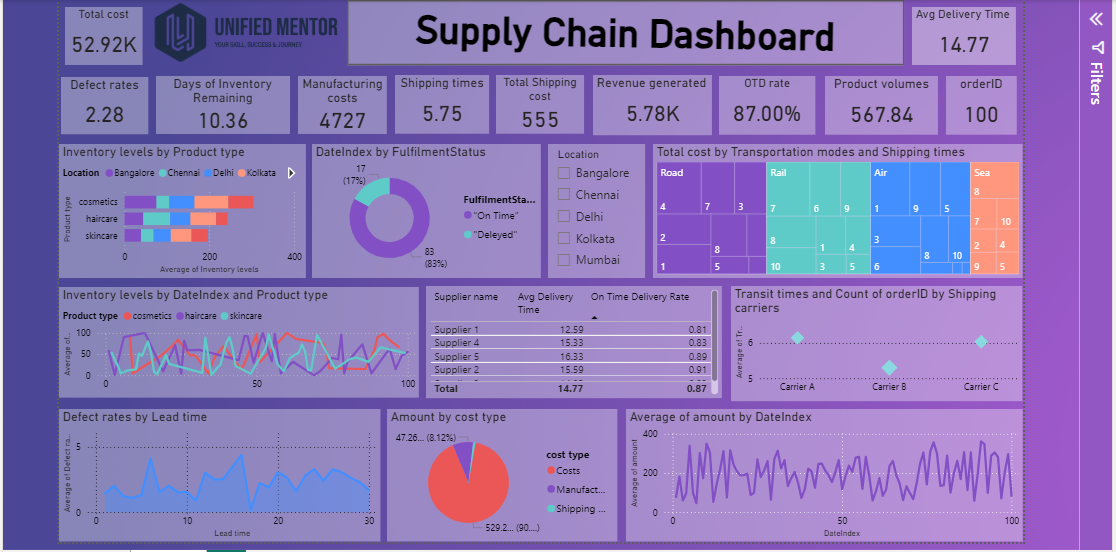

What the dashboard file says about the page in this screenshot:
{"tool":"powerbi","page":{"name":"Page 1","canvas":[1280,720],"ordinal":0},"visuals":[{"type":"barChart","title":"Inventory levels by Product type ","fields":{"Category":["Supply Chain.Product type"],"Series":["Supply Chain.Location"],"Y":["Avg(Inventory Management.Inventory levels)"]},"box":[0,191.3,327.6,177.5],"z":0},{"type":"lineChart","title":"Inventory levels by DateIndex and Product type","fields":{"Category":["Inventory Management.DateIndex"],"Y":["Avg(Inventory Management.Inventory levels)"],"Series":["Supply Chain.Product type"]},"box":[0,381.3,478.2,147.5],"z":1000},{"type":"card","title":"Days of Inventory Remaining","fields":{"Values":["Supply Chain.Days of Inventory Remaining"]},"box":[129.4,100.5,177.5,77.1],"z":2000},{"type":"card","title":"OTD rate","fields":{"Values":["Supply Chain.On Time Delivery Rate"]},"box":[876.7,100.5,128,78.5],"z":3000},{"type":"donutChart","title":"DateIndex by FulfilmentStatus","fields":{"Category":["Order Fulfilment.FulfilmentStatus"],"Y":["CountNonNull(Order Fulfilment.DateIndex)"]},"box":[335.8,191.3,304.2,177.5],"z":4000},{"type":"areaChart","title":"Defect rates by Lead time","fields":{"Category":["Supply Chain.Lead time"],"Y":["Divide(Avg(Supply Chain.Defect rates), ScopedEval(Avg(Supply Chain.Defect rates), []))"]},"box":[0,543.7,426.7,176.2],"z":5000},{"type":"card","title":"Total cost","fields":{"Values":["Supply Chain.Total cost"]},"box":[8.3,9.6,103.2,77.1],"z":6000},{"type":"scatterChart","title":"Transit times and Count of orderID by Shipping carriers","fields":{"Y":["Avg(Transportation Efficiency.Transit times)"],"X":["Supply Chain.Shipping carriers"],"Size":["CountNonNull(Supply Chain.orderID)"]},"box":[893.2,379.9,386.8,152.8],"z":7000},{"type":"pieChart","title":"Amount by cost type","fields":{"Category":["Supply Chain Cost.cost type"],"Y":["Avg(Supply Chain Cost.amount)"]},"box":[436.3,543.7,305.5,176.2],"z":8000},{"type":"lineChart","fields":{"Y":["Avg(Supply Chain Cost.amount)"],"Category":["Supply Chain Cost.DateIndex"]},"box":[752.9,543.7,527.1,176.2],"z":9000},{"type":"card","title":"Avg Delivery Time","fields":{"Values":["Avg(Supplier Performance.delivery time)"]},"box":[1133.1,9.3,138.2,77],"z":10000},{"type":"card","title":"Defect rates","fields":{"Values":["Avg(Supply Chain.Defect rates)"]},"box":[2.8,101.8,115.6,75.7],"z":11000},{"type":"card","title":"orderID","fields":{"Values":["CountNonNull(Supply Chain.orderID)"]},"box":[1178.2,100.5,93.6,78.5],"z":12000},{"type":"card","title":"Shipping times","fields":{"Values":["Avg(Supply Chain.Shipping times)"]},"box":[445.9,99.1,125.2,78.5],"z":13000},{"type":"card","title":"Revenue generated","fields":{"Values":["Avg(Supply Chain.Revenue generated)"]},"box":[708.8,99.1,158.3,79.8],"z":14000},{"type":"card","title":"Product volumes","fields":{"Values":["Avg(Supply Chain.Production volumes)"]},"box":[1017.1,100.5,150,78.5],"z":15000},{"type":"treemap","fields":{"Group":["Supply Chain.Transportation modes"],"Values":["Supply Chain.Total cost"],"Details":["Supply Chain.Shipping times"]},"box":[788.6,191.3,491.4,177.5],"z":16000},{"type":"slicer","fields":{"Values":["Supply Chain.Location"]},"box":[649.6,191.3,128.9,178],"z":17000},{"type":"card","title":"Manufacturing costs","fields":{"Values":["Sum(Supply Chain.Manufacturing costs)"]},"box":[317.9,100.5,118.4,77.1],"z":18000},{"type":"card","title":"Total Shipping cost","fields":{"Values":["Sum(Supply Chain.Shipping costs)"]},"box":[580.8,99.1,117,78.5],"z":19000},{"type":"tableEx","fields":{"Values":["Supply Chain.Supplier name","Supply Chain.Avg Delivery Time","Supply Chain.On Time Delivery Rate"]},"box":[487.5,379.9,393.2,148.8],"z":20000},{"type":"image","box":[118.2,0,259,86.3],"z":20001},{"type":"actionButton","title":"Supply Chain Dashboard","box":[382.6,0,740.5,86.7],"z":20002}]}

Visuals, with their boxes in screenshot pixels (x1, y1, x2, y2):
"Inventory levels by Product type " barChart: pyautogui.locateOnScreen(142, 145, 390, 279)
"Inventory levels by DateIndex and Product type" lineChart: pyautogui.locateOnScreen(142, 288, 504, 400)
"Days of Inventory Remaining" card: pyautogui.locateOnScreen(240, 76, 375, 134)
"OTD rate" card: pyautogui.locateOnScreen(805, 76, 902, 135)
"DateIndex by FulfilmentStatus" donutChart: pyautogui.locateOnScreen(396, 145, 626, 279)
"Defect rates by Lead time" areaChart: pyautogui.locateOnScreen(142, 411, 465, 544)
"Total cost" card: pyautogui.locateOnScreen(149, 7, 227, 66)
"Transit times and Count of orderID by Shipping carriers" scatterChart: pyautogui.locateOnScreen(818, 287, 1110, 403)
"Amount by cost type" pieChart: pyautogui.locateOnScreen(472, 411, 703, 544)
lineChart - Avg(Supply Chain Cost.amount) x Supply Chain Cost.DateIndex: pyautogui.locateOnScreen(712, 411, 1110, 544)
"Avg Delivery Time" card: pyautogui.locateOnScreen(999, 7, 1104, 65)
"Defect rates" card: pyautogui.locateOnScreen(145, 77, 232, 134)
"orderID" card: pyautogui.locateOnScreen(1034, 76, 1104, 135)
"Shipping times" card: pyautogui.locateOnScreen(480, 75, 574, 134)
"Revenue generated" card: pyautogui.locateOnScreen(678, 75, 798, 135)
"Product volumes" card: pyautogui.locateOnScreen(912, 76, 1025, 135)
treemap - Supply Chain.Transportation modes x Supply Chain.Total cost: pyautogui.locateOnScreen(739, 145, 1110, 279)
slicer - Supply Chain.Location: pyautogui.locateOnScreen(634, 145, 731, 279)
"Manufacturing costs" card: pyautogui.locateOnScreen(383, 76, 472, 134)
"Total Shipping cost" card: pyautogui.locateOnScreen(582, 75, 670, 134)
tableEx - Supply Chain.Supplier name x Supply Chain.Avg Delivery Time: pyautogui.locateOnScreen(511, 287, 809, 400)
image: pyautogui.locateOnScreen(232, 0, 428, 65)
"Supply Chain Dashboard" actionButton: pyautogui.locateOnScreen(432, 0, 992, 66)
